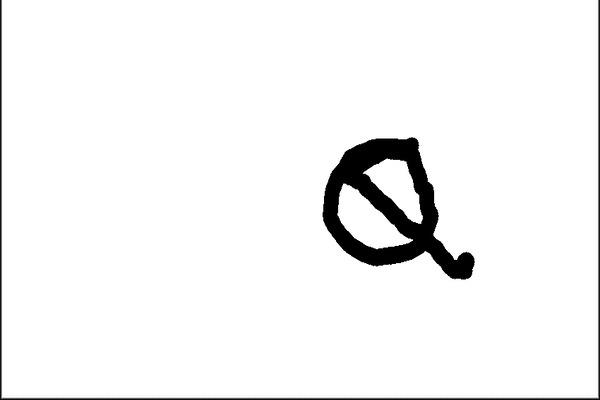Q: (307, 129, 473, 287)
